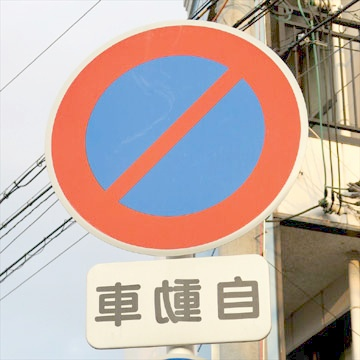Prohibition_sign: (39, 29, 332, 253)
